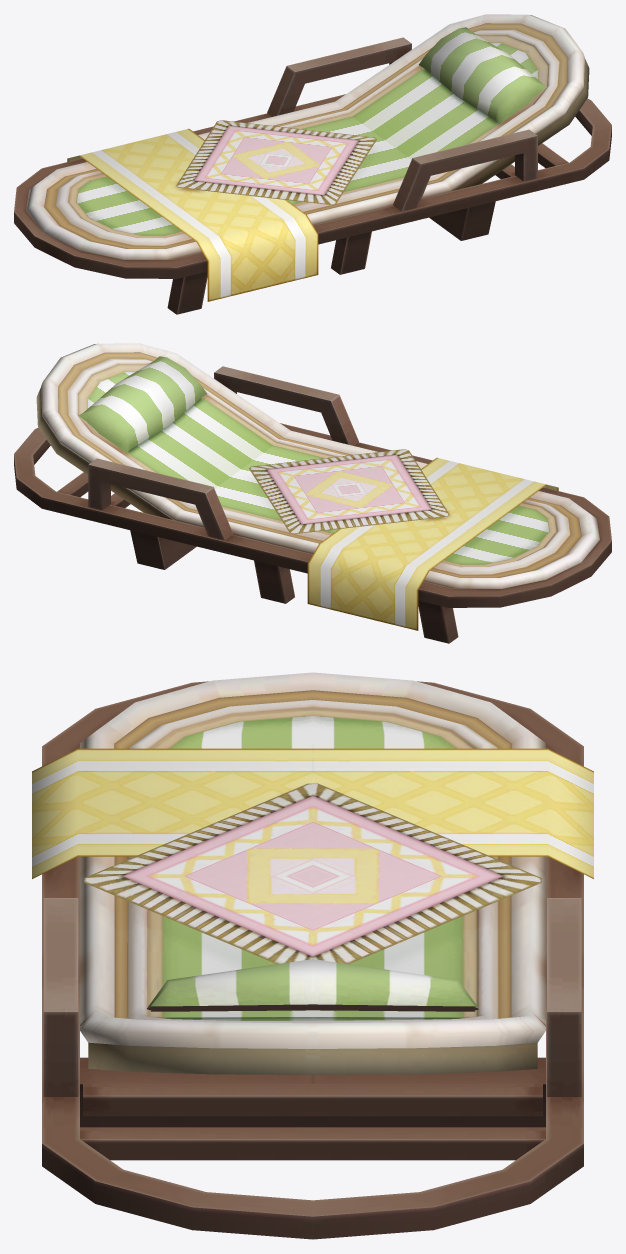
The model's file is my_sunshineresort_01_sunbed_02.glb.
The picture shows the model from 3 angles, top to bottom: view 1: azimuth 30°, elevation 25°; view 2: azimuth 150°, elevation 25°; view 3: azimuth 270°, elevation 25°; orthographic projection. The views are drawn at different scales.
Visible parts, largest first — view 1: my_sunshineresort_01_sunbed_02; view 2: my_sunshineresort_01_sunbed_02; view 3: my_sunshineresort_01_sunbed_02.
Part boxes in pixels (x1=…): my_sunshineresort_01_sunbed_02: x1=14, y1=14, x2=611, y2=314; my_sunshineresort_01_sunbed_02: x1=14, y1=343, x2=611, y2=643; my_sunshineresort_01_sunbed_02: x1=32, y1=672, x2=593, y2=1239.
Size of the model in its own units: 0.0117 by 0.00258 by 0.00512.
1 material, 1 textured.
